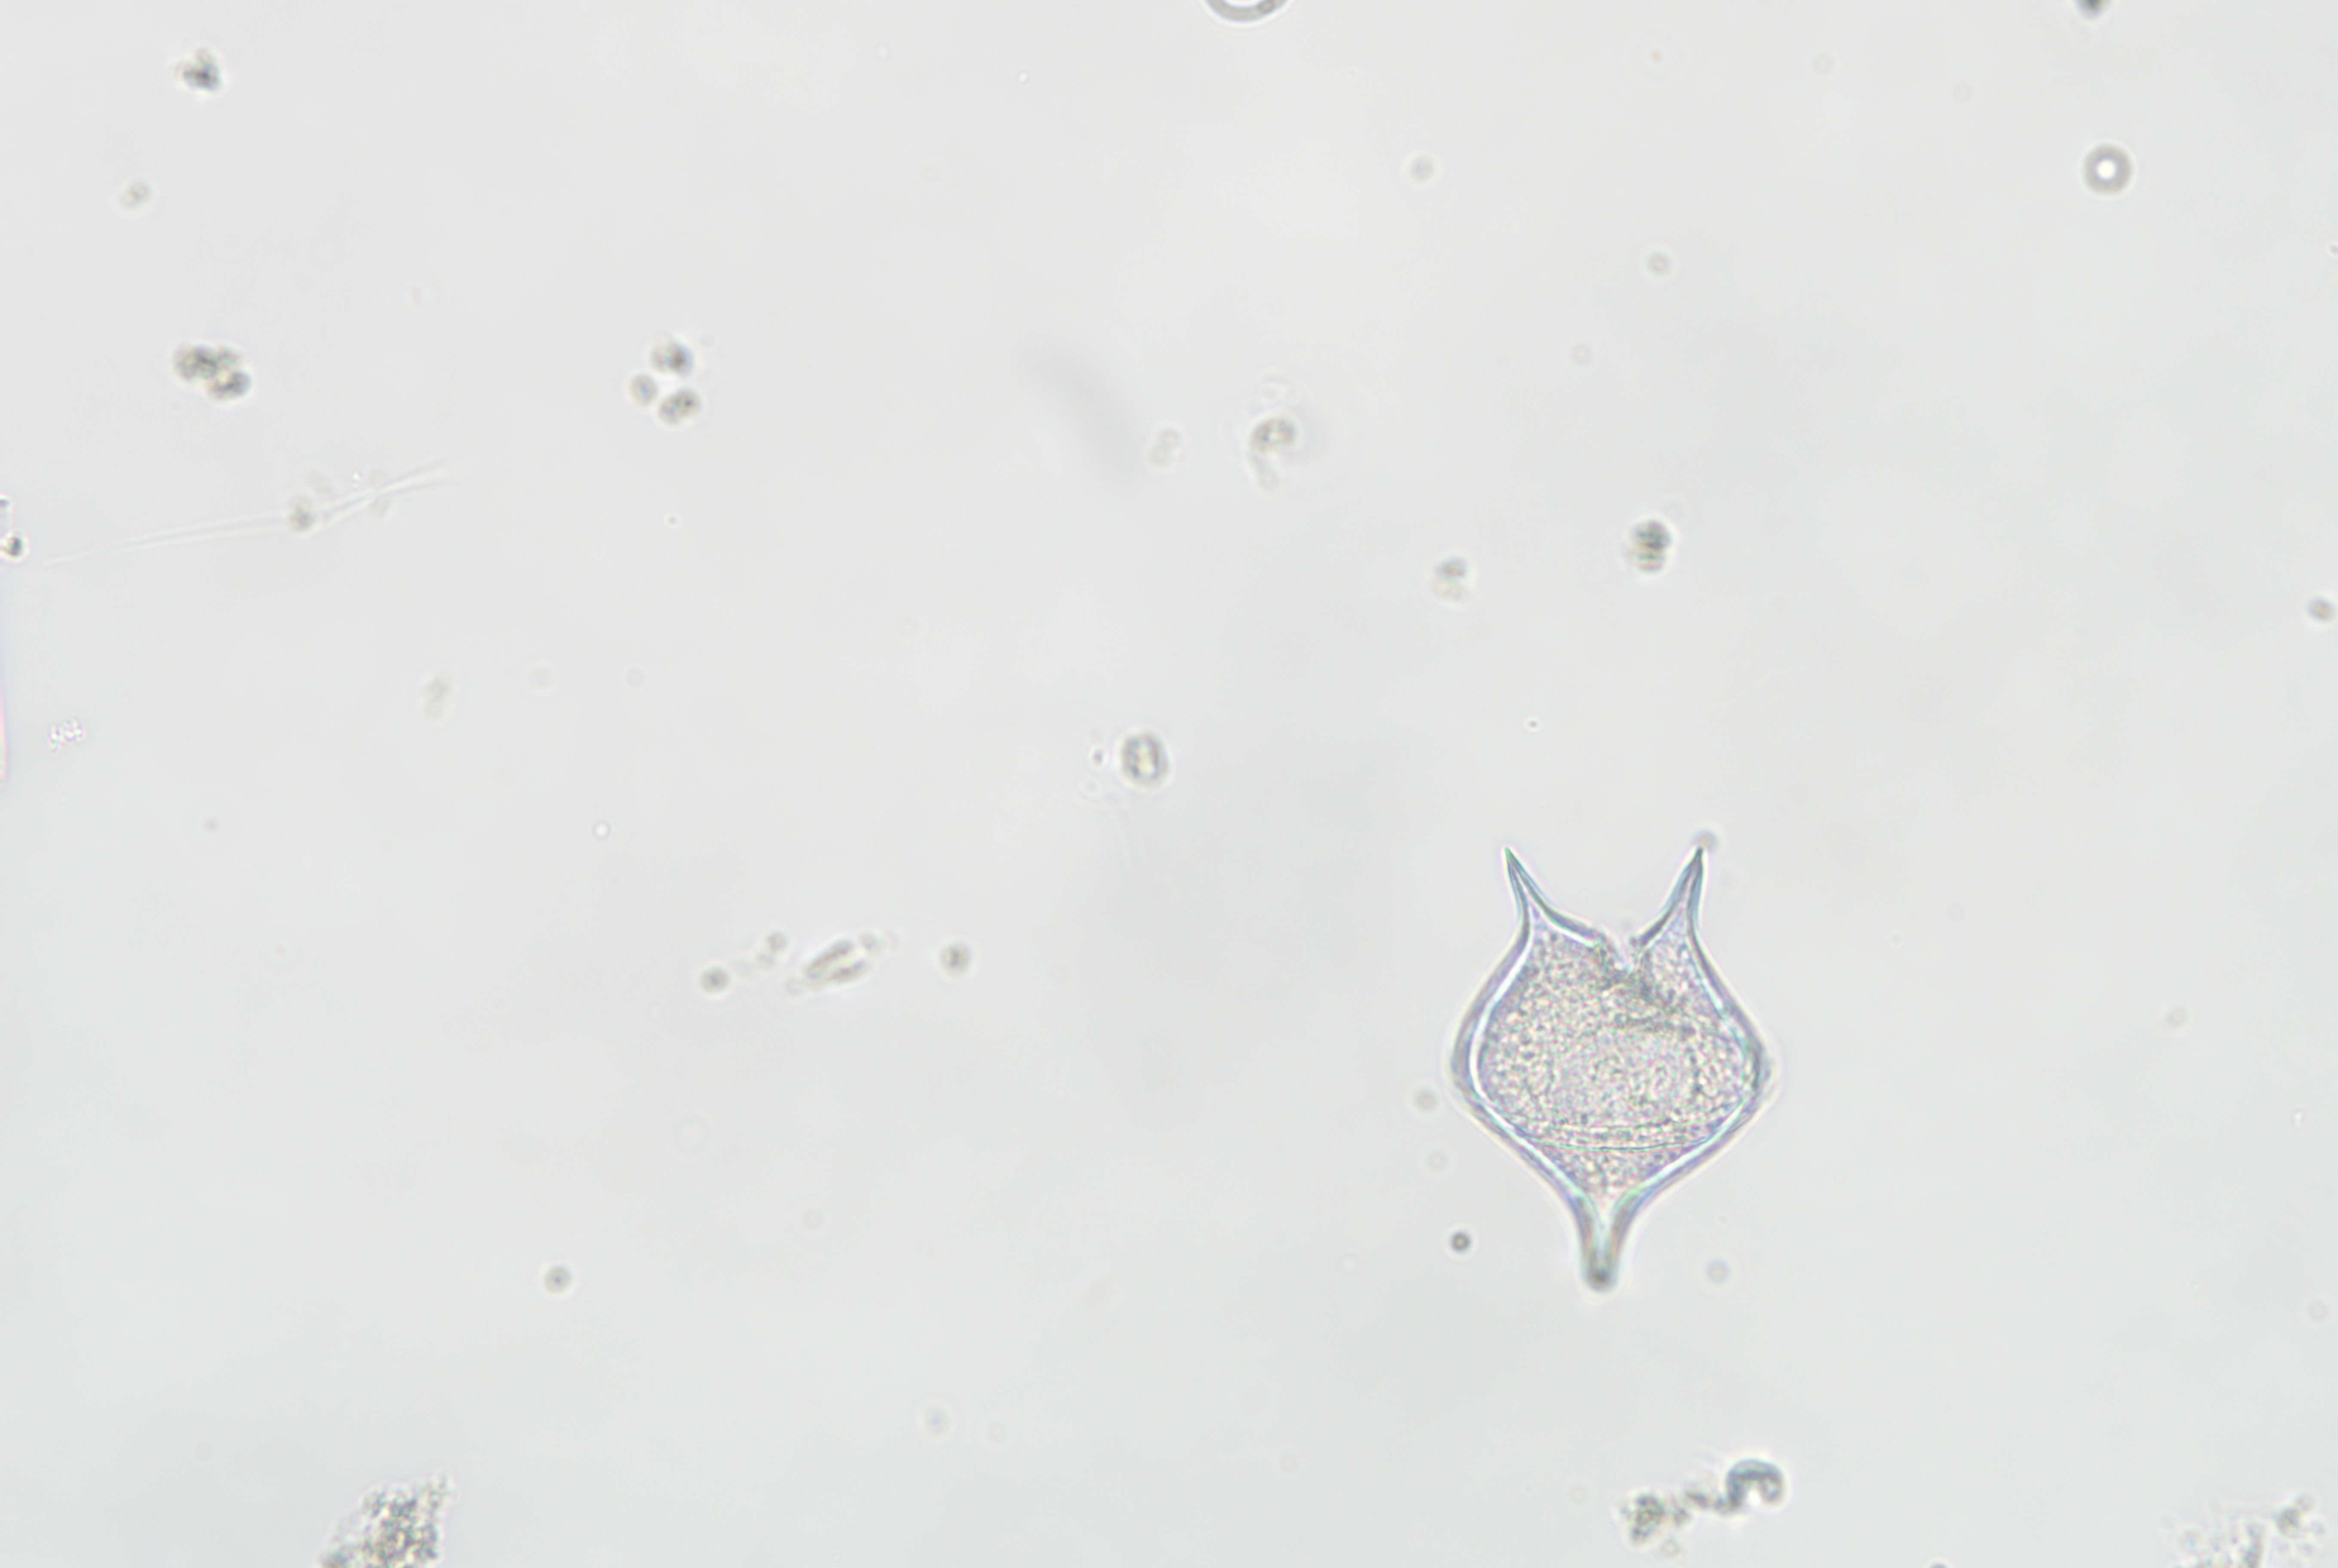protoperidinium: (1381, 794, 1831, 1312)
